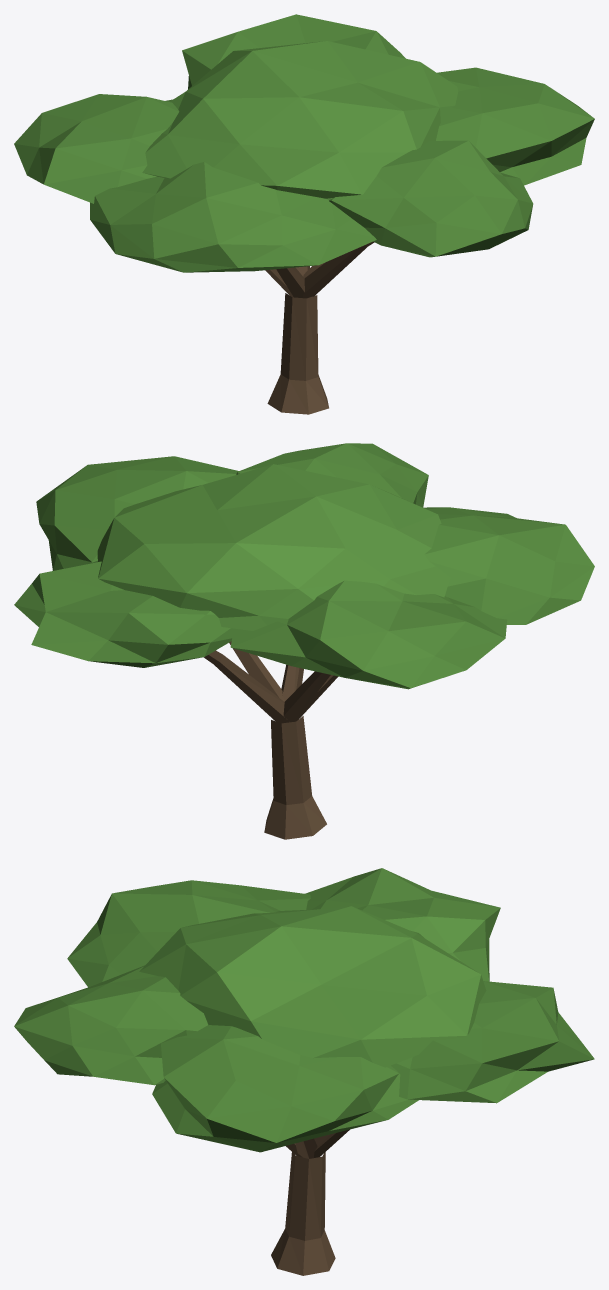
File: umbrella_a.glb
3 views of the same model, one above another, from view 1: azimuth 30°, elevation 25°; view 2: azimuth 150°, elevation 25°; view 3: azimuth 270°, elevation 25° (orthographic). The views are drawn at different scales.
Parts seen in each view (by area): view 1: umbrella; view 2: umbrella; view 3: umbrella.
Boxes of the visible parts, x1,y1,x2,y2 form: umbrella: (14, 14, 594, 414); umbrella: (14, 443, 594, 839); umbrella: (14, 868, 594, 1275).
Bounding box in the file's own units: 15.24 × 9.33 × 14.85.
